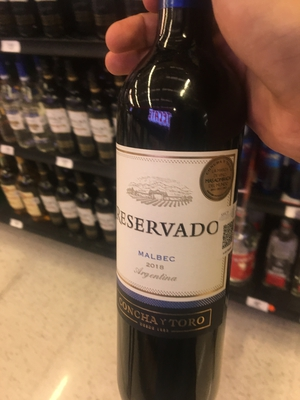reservado malbec: (102, 14, 250, 400)
